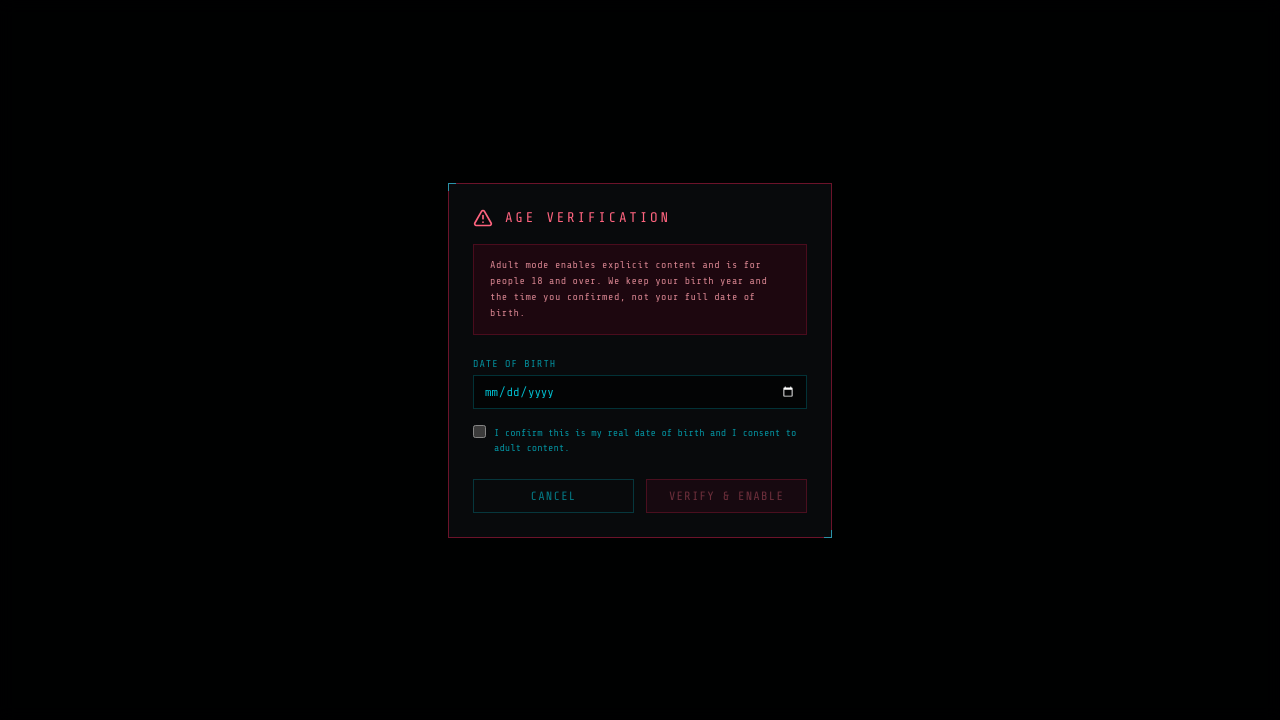
Test: AgeGateDialog › shows the server's refusal and does not enable
The image size is (1280, 720).
Step 1. Type "1990-05-17" into the date field with test id "age-gate-dob" → (640, 392), box [473,374,807,408]
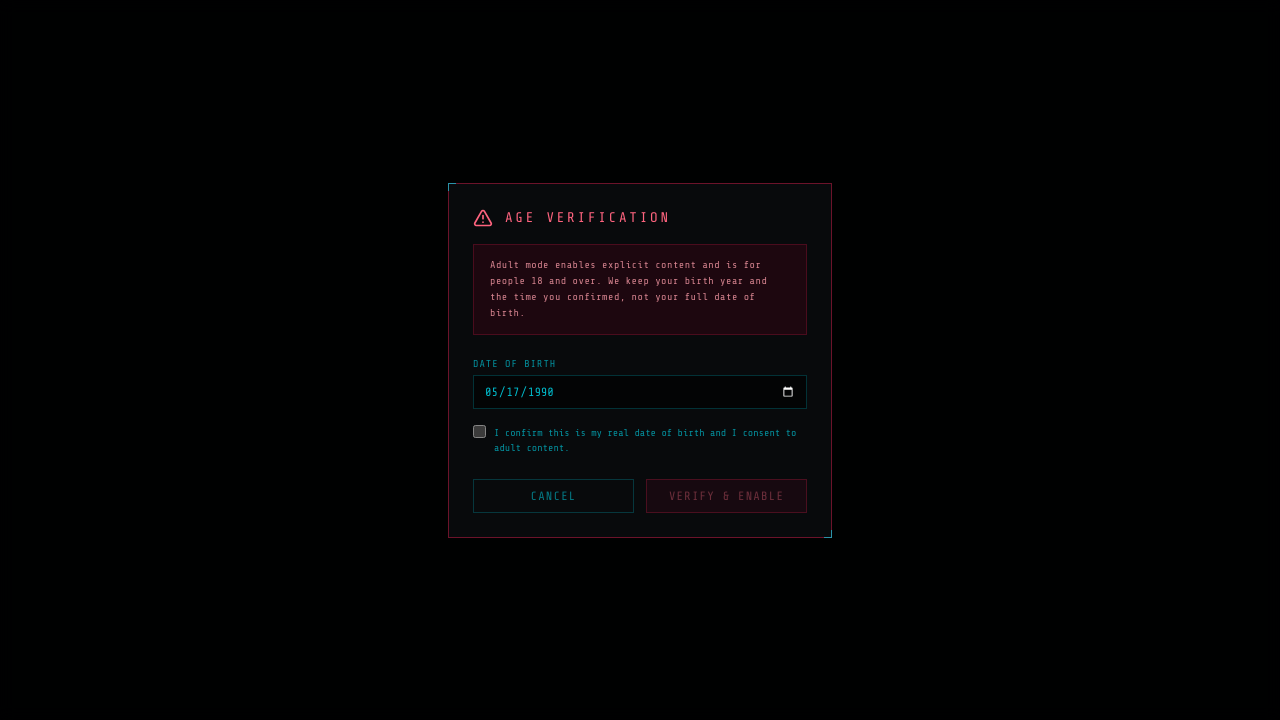
Step 2. Click the checkbox with test id "age-gate-confirm" → (480, 431), box [473,424,486,438]
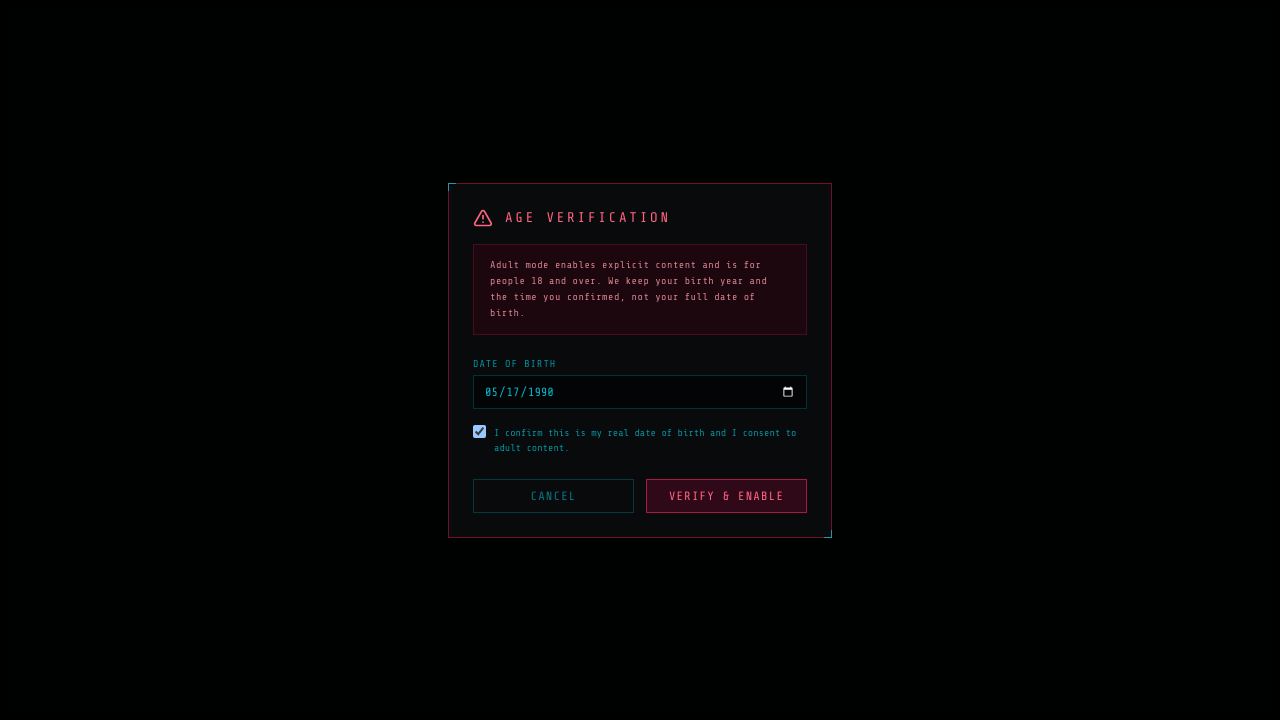
Step 3. Click the button with test id "age-gate-submit" → (726, 496), box [646,478,807,512]
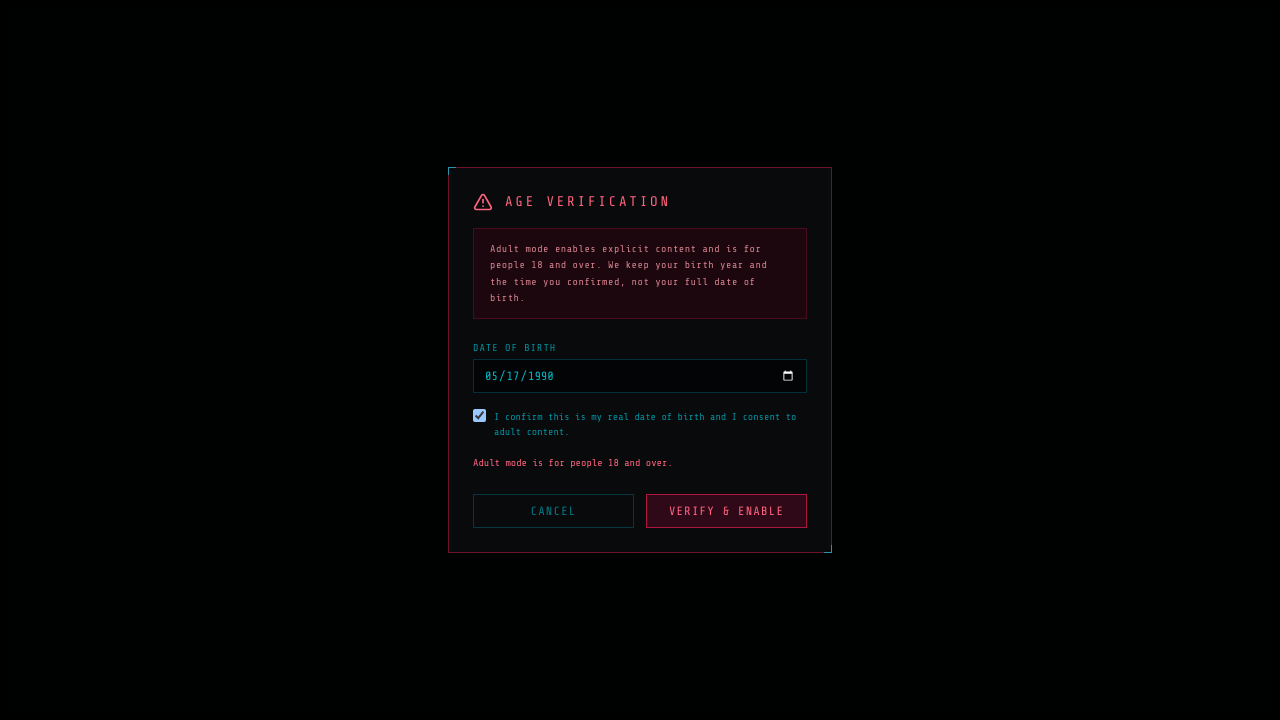
Result: the message shows "18 and over" at [473,457,673,468]
